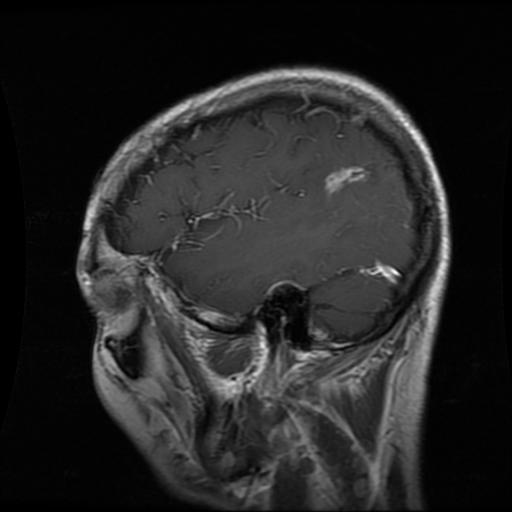Gliomia_tumour: (324, 165, 371, 200)
